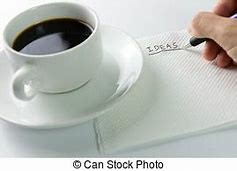pen: (183, 12, 237, 51)
